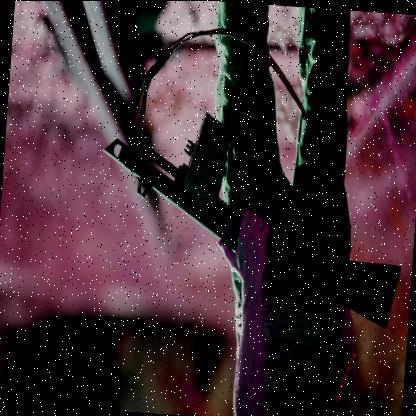rifle: (93, 89, 413, 348)
